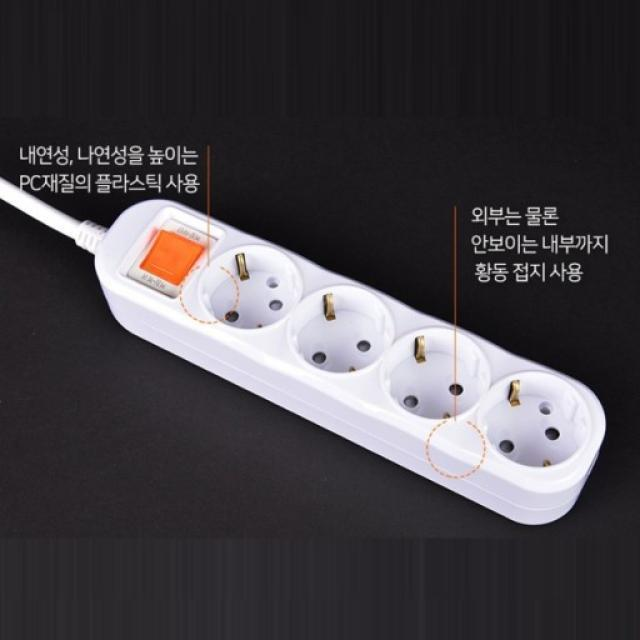typeb: (86, 163, 602, 549)
